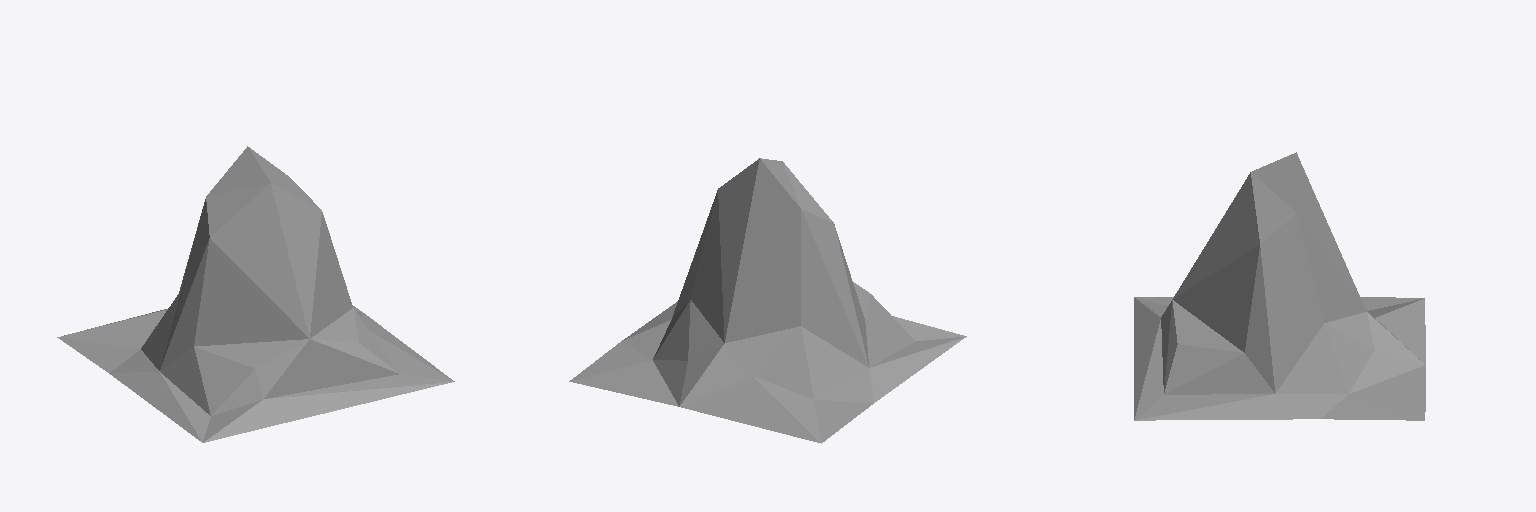
File: Terrain.obj
3 views of the same model, side by side, from view 1: azimuth 30°, elevation 25°; view 2: azimuth 150°, elevation 25°; view 3: azimuth 270°, elevation 25° (orthographic).
Visible parts, largest first — view 1: Plane; view 2: Plane; view 3: Plane.
Boxes of the visible parts, <box> form: Plane: <box>57,146,454,442</box>; Plane: <box>569,158,966,443</box>; Plane: <box>1134,152,1425,420</box>.
Size of the model in its own units: 3.78 by 2.96 by 3.77.